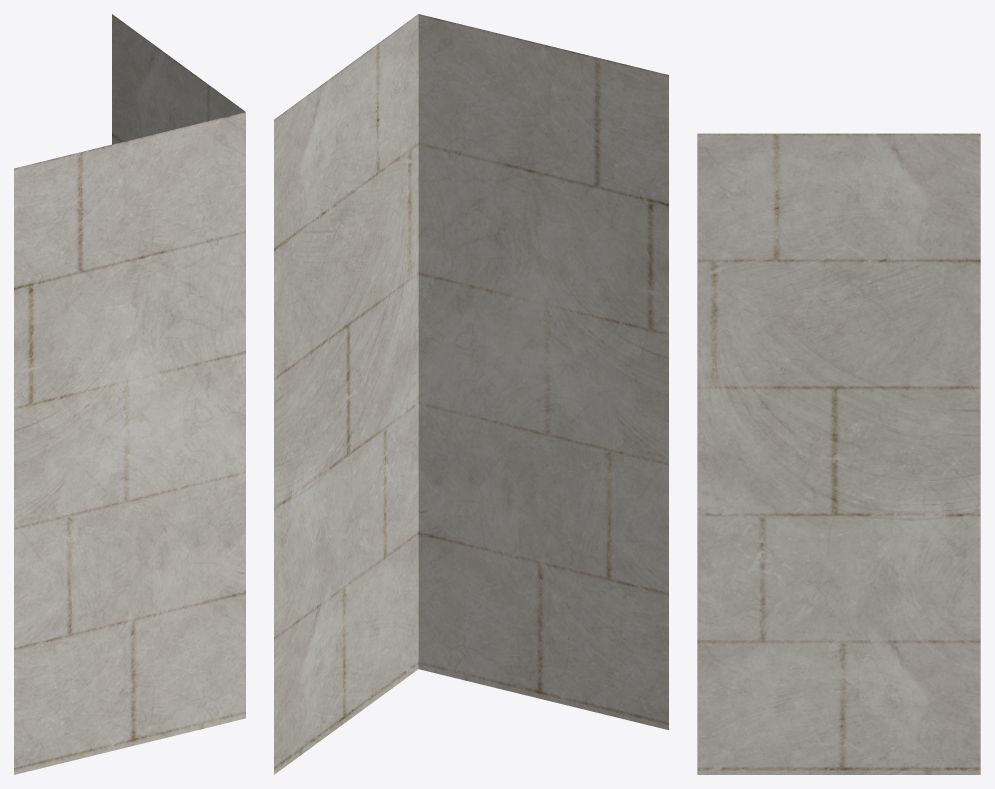
Rendered from Wall_02_Corner.glb.
3 renders of one model, left to right at view 1: azimuth 30°, elevation 25°; view 2: azimuth 150°, elevation 25°; view 3: azimuth 270°, elevation 25°, orthographic. The views are drawn at different scales.
Parts seen in each view (by area): view 1: Wall_02_Corner; view 2: Wall_02_Corner; view 3: Wall_02_Corner.
Part boxes in pixels (box(x1,y1,x2,y2)): Wall_02_Corner: box(14, 14, 245, 774); Wall_02_Corner: box(274, 14, 668, 774); Wall_02_Corner: box(697, 133, 980, 774).
Size of the model in its own units: 1 by 2.5 by 1.
1 material, 1 textured.
